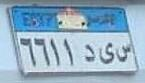1: (50, 37, 59, 66), (64, 40, 73, 64)
6: (21, 37, 33, 66), (37, 37, 48, 64)
daal: (82, 44, 95, 62)
seen: (116, 43, 131, 62)
yaa: (99, 42, 114, 64)
